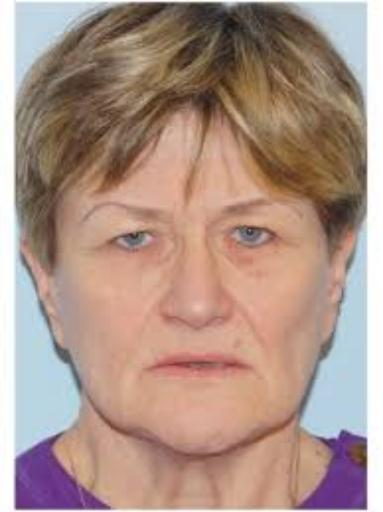left_eye: (221, 223, 284, 252)
left_lip_corner: (240, 357, 256, 377)
right_eye: (104, 228, 166, 255)
right_lip_corner: (141, 358, 163, 381)
